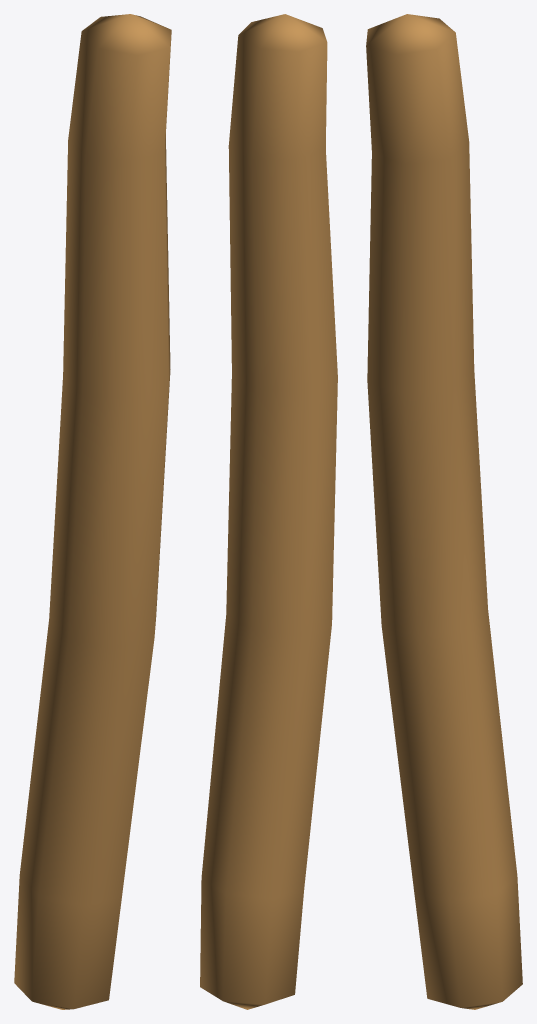
Rendered from tarsus2_T3_right_leg.obj.
3 views of the same model, side by side, from view 1: azimuth 90°, elevation 25°; view 2: azimuth 150°, elevation 25°; view 3: azimuth 270°, elevation 25° (orthographic). The views are drawn at different scales.
Bounding box in the file's own units: 0.00287 × 0.0261 × 0.00374.
